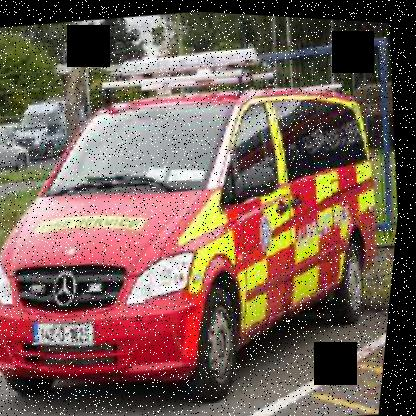emergency: (0, 7, 415, 415)
not_emergency: (7, 84, 95, 170), (0, 119, 37, 180)
